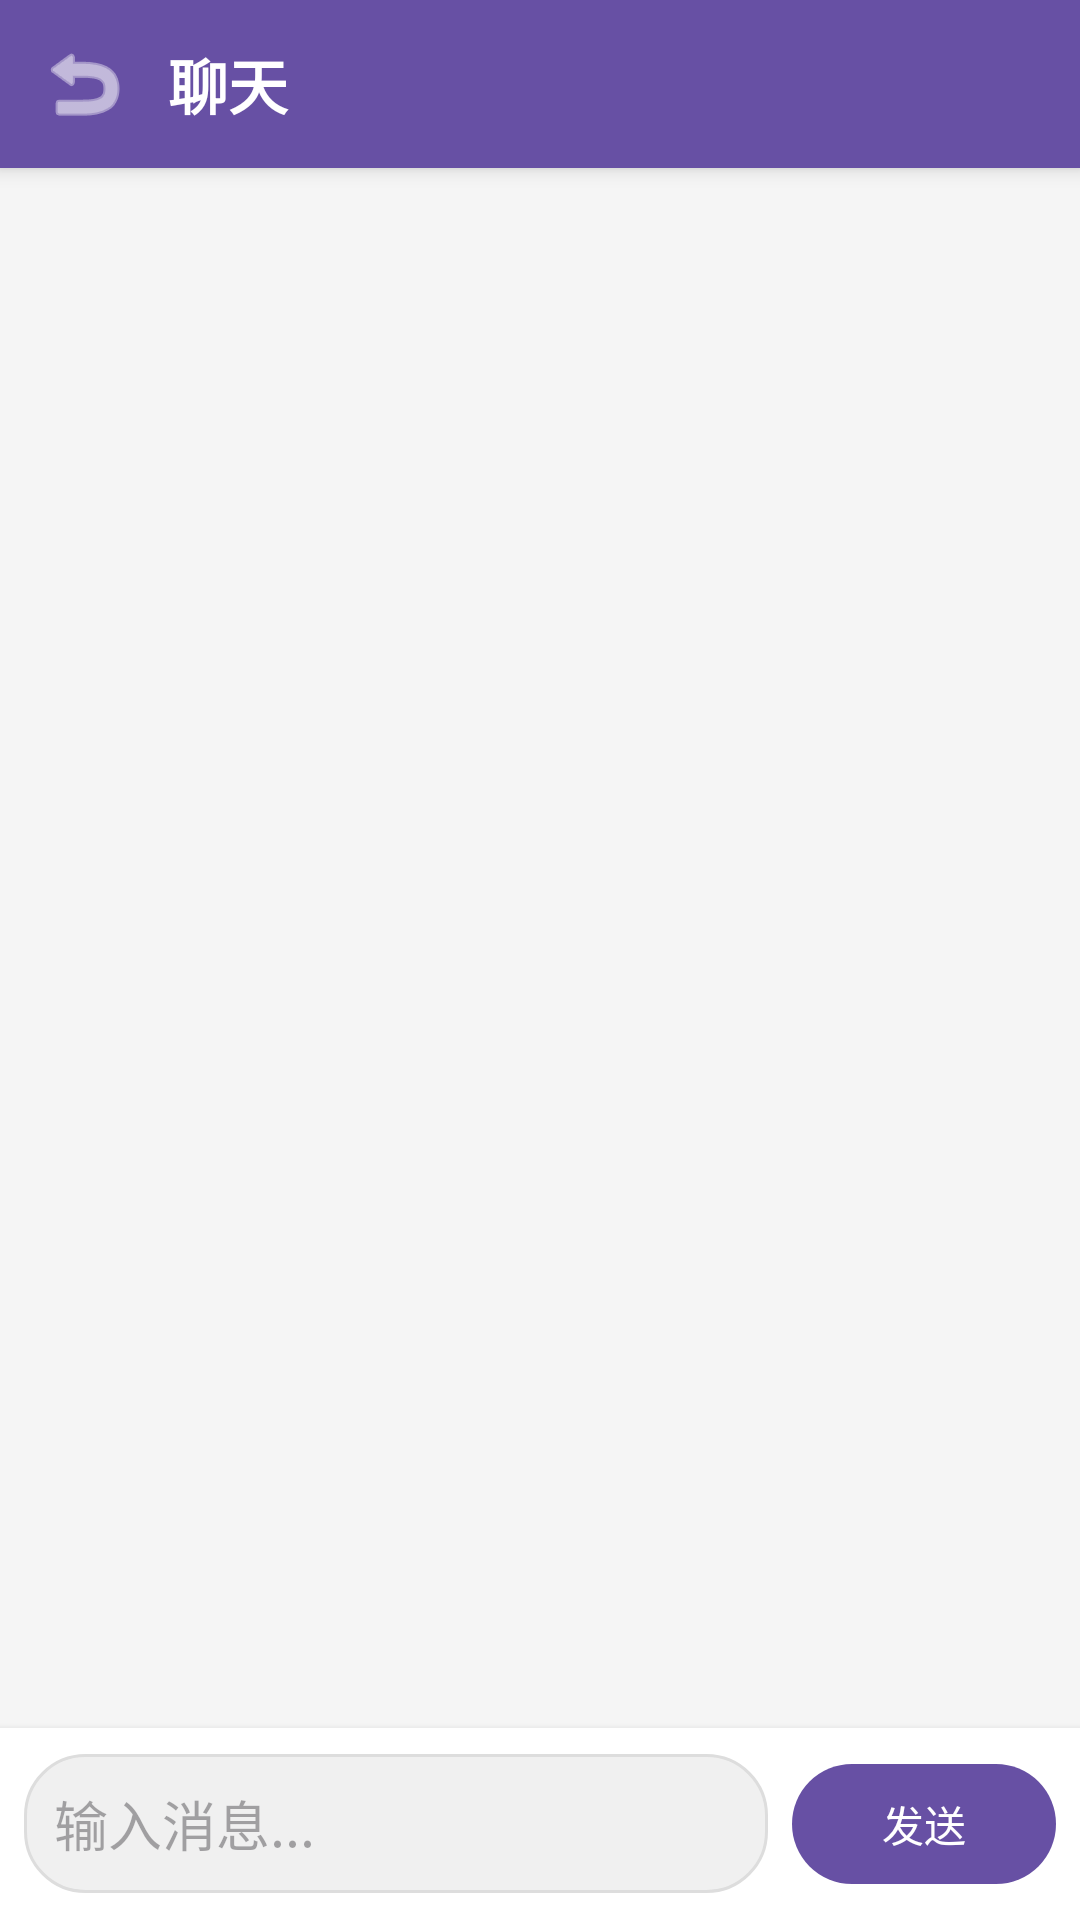

Screen size 1080 x 1920. Icon name, then its center in pixels as (x=x, y=y):
返回: (x=85, y=84)
